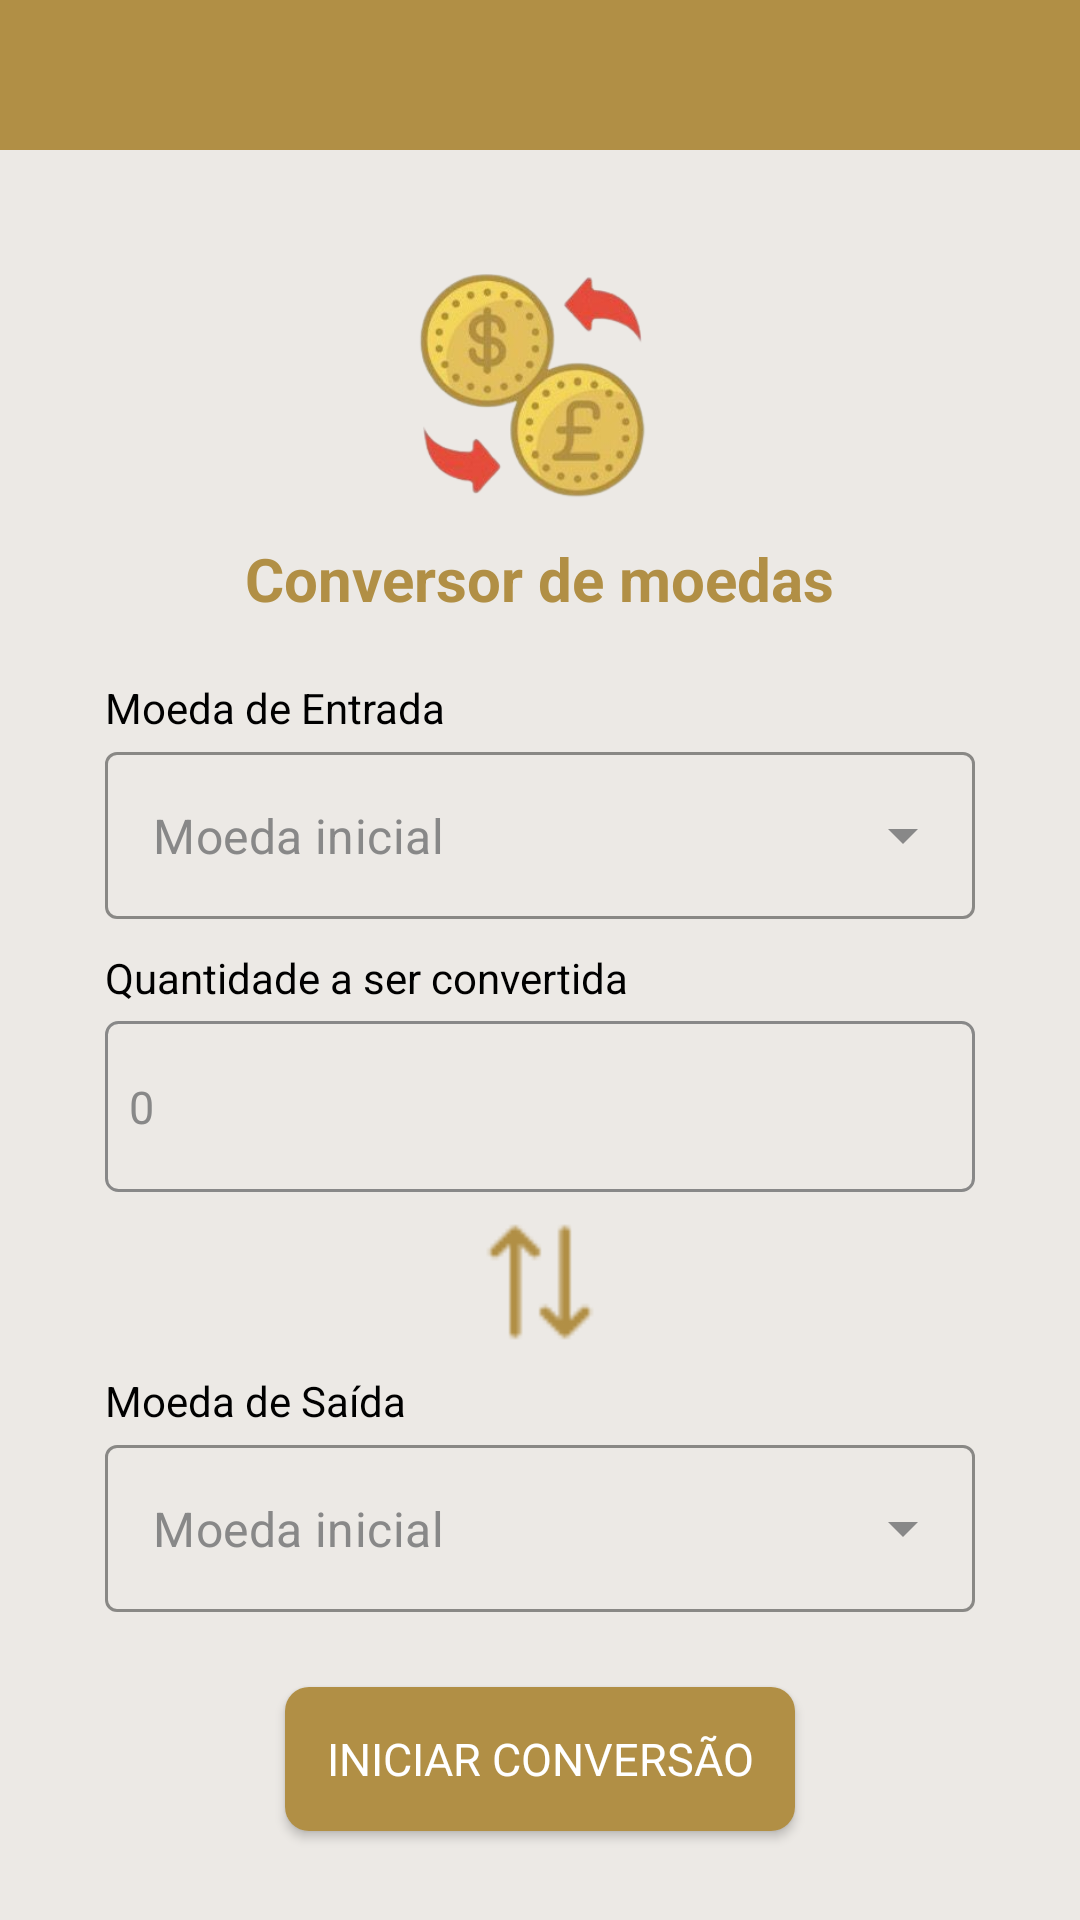

Icon bounding boxes for this 1080 × 1920 phone screenshot, format (x1, y1, x2, y2):
updown: (488, 1225, 591, 1339)
